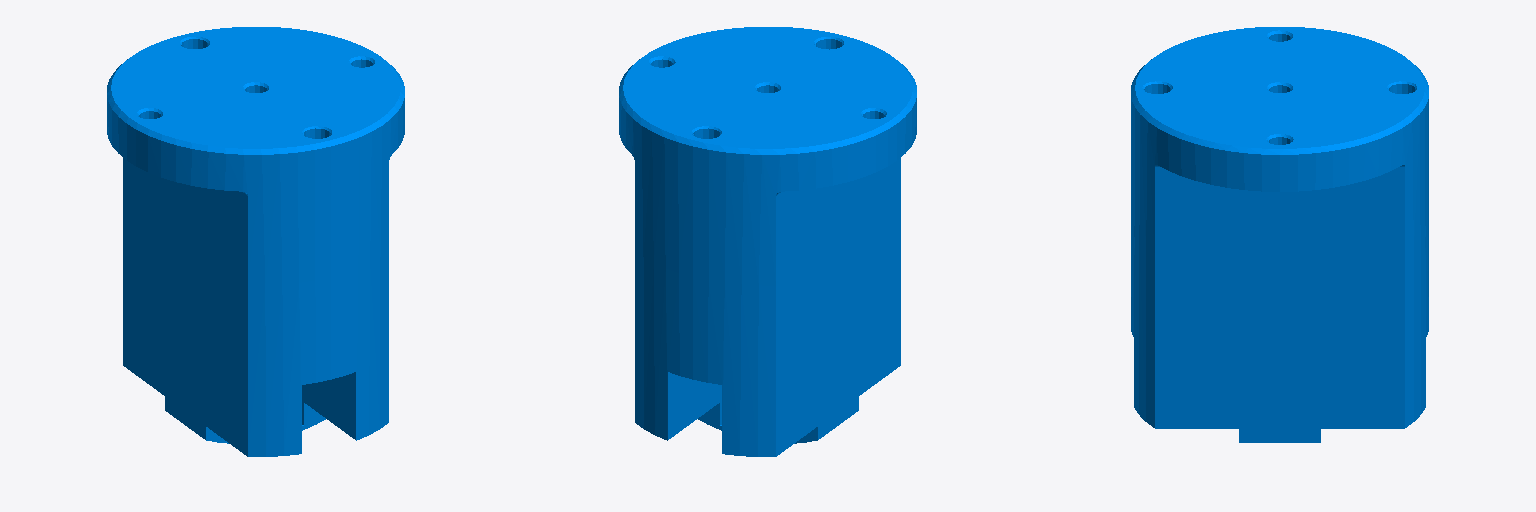
File: Gripper2F0b.obj
3 views of the same model, side by side, from view 1: azimuth 30°, elevation 25°; view 2: azimuth 150°, elevation 25°; view 3: azimuth 270°, elevation 25° (orthographic).
Bounding box in the file's own units: 0.033 × 0.041 × 0.033.